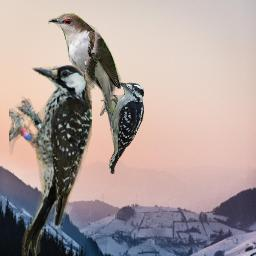Cuckoo: (47, 13, 122, 152)
Woodpecker: (9, 65, 92, 256), (100, 81, 149, 174)
